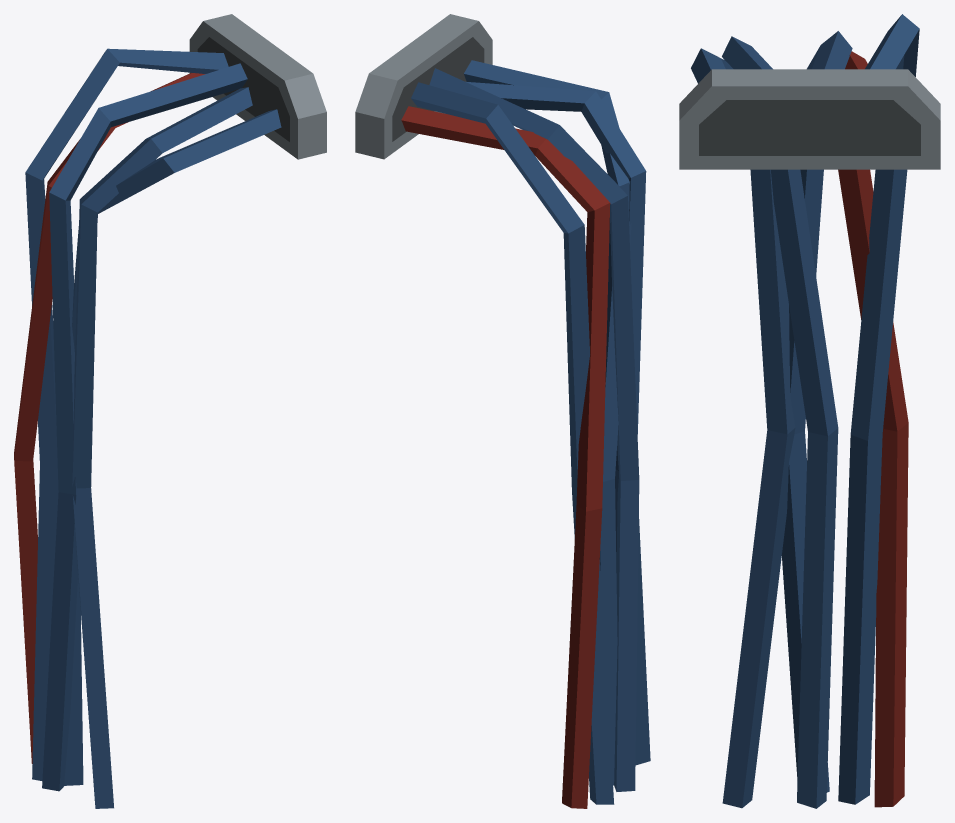
The model's file is SM_Prop_CableTray_01_Cable_End_01.glb.
The picture shows the model from 3 angles, left to right: view 1: azimuth 30°, elevation 25°; view 2: azimuth 150°, elevation 25°; view 3: azimuth 270°, elevation 25°; orthographic projection. The views are drawn at different scales.
Parts seen in each view (by area): view 1: SM_Prop_CableTray_01_Cable_End_01; view 2: SM_Prop_CableTray_01_Cable_End_01; view 3: SM_Prop_CableTray_01_Cable_End_01.
Boxes of the visible parts, <box> form: SM_Prop_CableTray_01_Cable_End_01: <box>14,14,326,808</box>; SM_Prop_CableTray_01_Cable_End_01: <box>355,14,650,808</box>; SM_Prop_CableTray_01_Cable_End_01: <box>679,14,940,808</box>.
Bounding box in the file's own units: 0.3949 × 1.15 × 0.3249.
1 material, 1 textured.
